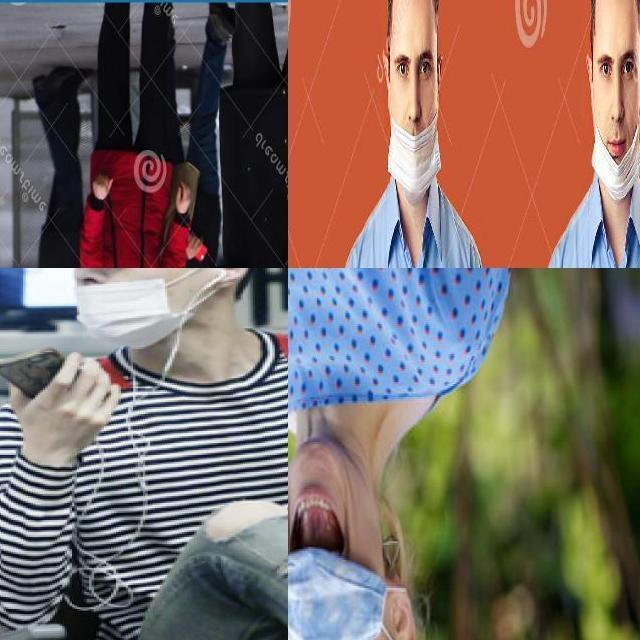hairnet: (288, 453, 372, 639), (69, 268, 170, 345), (591, 94, 638, 201), (392, 93, 437, 187)
